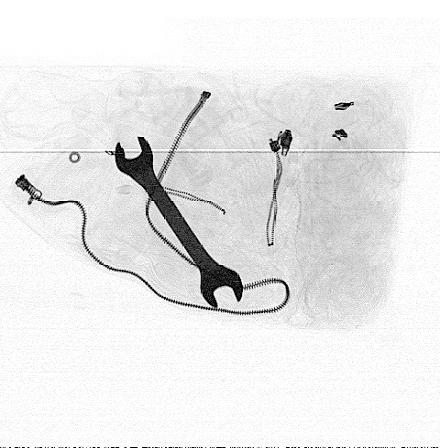Wrench: (113, 136, 243, 308)
